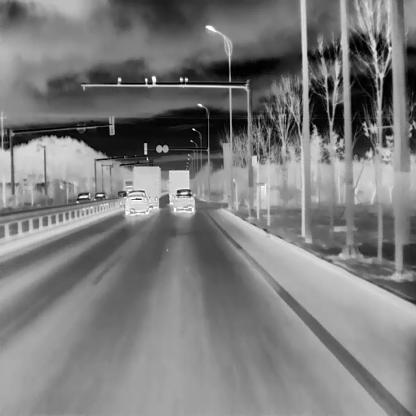car: (125, 190, 150, 214), (173, 189, 194, 212), (75, 191, 91, 202), (94, 192, 107, 200), (117, 190, 127, 198)
truck: (134, 166, 158, 208), (168, 170, 188, 205), (123, 176, 133, 197)
